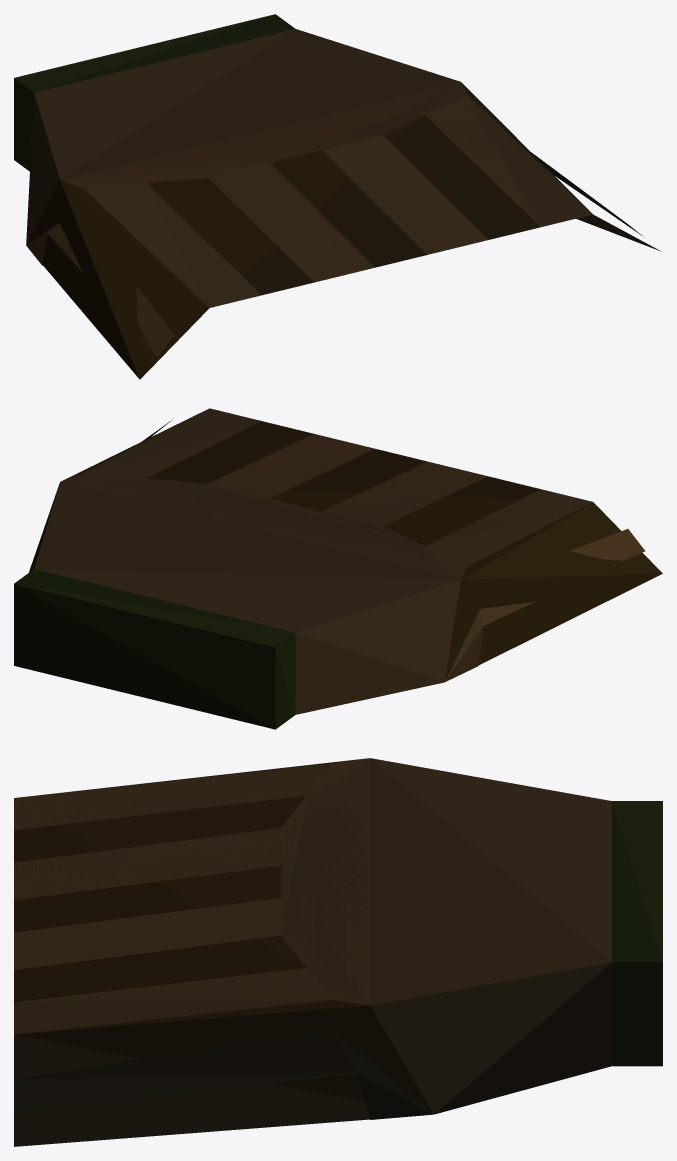
File: bronze-plateskirt.obj
The picture shows the model from 3 angles, top to bottom: view 1: azimuth 30°, elevation 25°; view 2: azimuth 150°, elevation 25°; view 3: azimuth 270°, elevation 25°; orthographic projection. The views are drawn at different scales.
Visible parts, largest first — view 1: Item Bronze plateskirt 2026-09-24_18-09-40; view 2: Item Bronze plateskirt 2026-09-24_18-09-40; view 3: Item Bronze plateskirt 2026-09-24_18-09-40.
Boxes of the visible parts, x1,y1,x2,y2 form: Item Bronze plateskirt 2026-09-24_18-09-40: (14, 14, 661, 379); Item Bronze plateskirt 2026-09-24_18-09-40: (14, 408, 662, 729); Item Bronze plateskirt 2026-09-24_18-09-40: (14, 758, 662, 1146).
Bounding box in the file's own units: 60 × 9 × 51.
